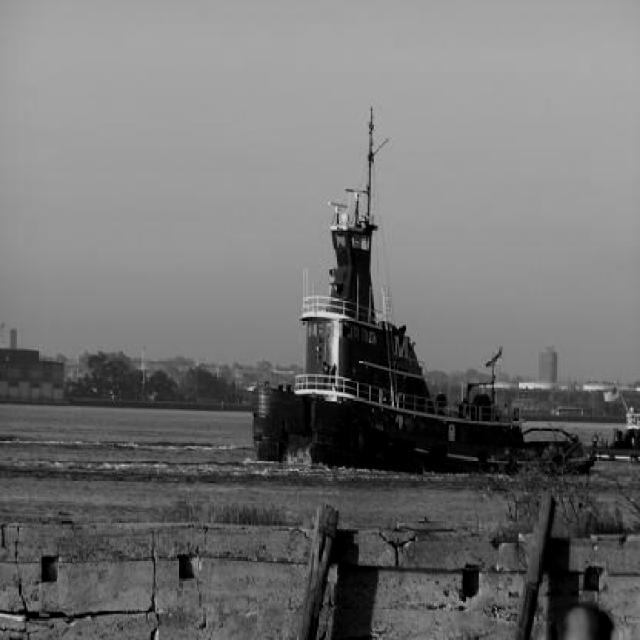ship: (231, 102, 560, 490)
